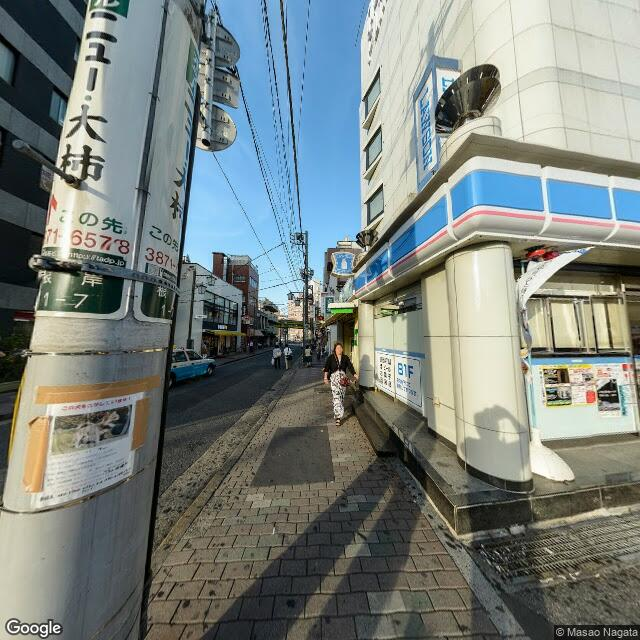lawson: (354, 153, 639, 300), (330, 247, 357, 277)
